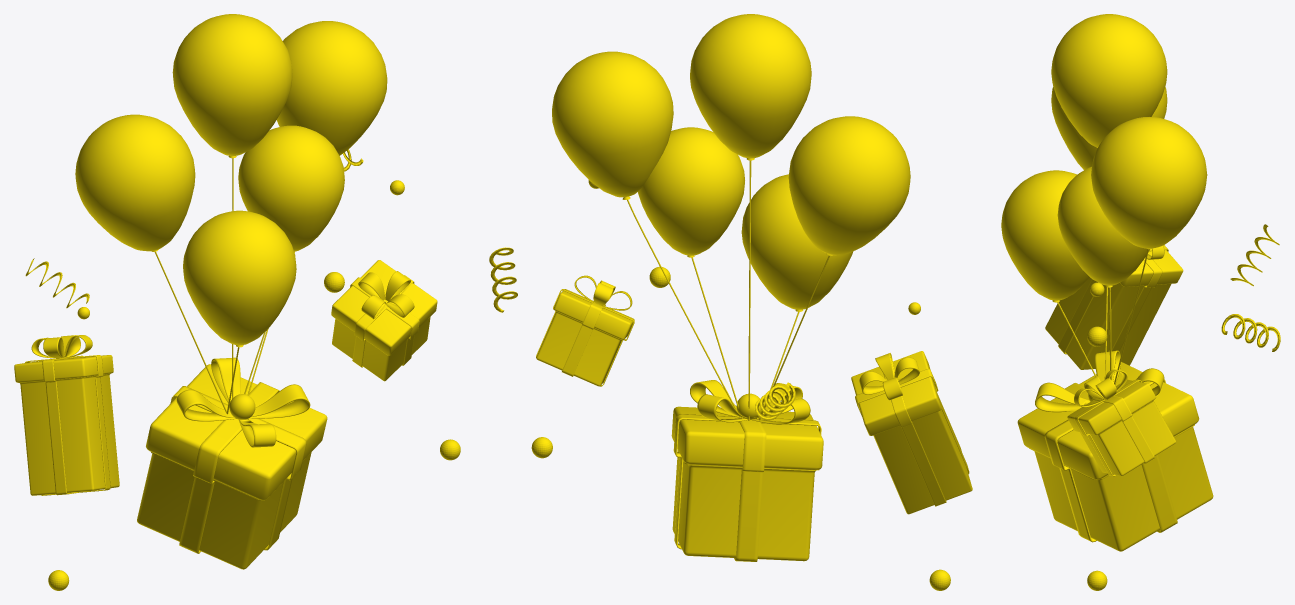
File: present2.glb
3 views of the same model, side by side, from view 1: azimuth 30°, elevation 25°; view 2: azimuth 150°, elevation 25°; view 3: azimuth 270°, elevation 25° (orthographic). The views are drawn at different scales.
Parts seen in each view (by area): view 1: present1, present2.001, balloon1, balloon2, balloon5, balloon3, balloon4, present2; view 2: present1, balloon3, balloon1, balloon2, present2.001, balloon4, balloon5, present2, Rectangle.003, Rectangle.002; view 3: present1, balloon3, balloon1, present2.001, present2, balloon5, balloon4, balloon2, Rectangle.002, Rectangle.003.
Part boxes in pixels (<box>): present1: <box>137,357,327,569</box>; present2.001: <box>14,335,119,495</box>; balloon1: <box>172,14,292,158</box>; balloon2: <box>75,114,195,251</box>; balloon5: <box>183,210,296,347</box>; balloon3: <box>277,21,387,155</box>; balloon4: <box>238,125,344,252</box>; present2: <box>331,260,437,381</box>; present1: <box>671,380,823,561</box>; balloon3: <box>552,51,673,199</box>; balloon1: <box>690,14,811,160</box>; balloon2: <box>788,116,910,255</box>; present2.001: <box>851,351,972,514</box>; balloon4: <box>638,127,744,257</box>; balloon5: <box>741,174,853,311</box>; present2: <box>536,275,634,386</box>; Rectangle.003: <box>754,382,795,420</box>; Rectangle.002: <box>489,247,517,312</box>; present1: <box>1017,350,1213,551</box>; balloon3: <box>1091,117,1207,249</box>; balloon1: <box>1051,14,1167,147</box>; present2.001: <box>1045,245,1183,369</box>; present2: <box>1067,369,1175,476</box>; balloon5: <box>1001,170,1089,302</box>; balloon4: <box>1057,166,1149,287</box>; balloon2: <box>1051,87,1167,169</box>; Rectangle.002: <box>1221,314,1280,351</box>; Rectangle.003: <box>1230,224,1279,286</box>.
Size of the model in its own units: 1.6 by 1.87 by 0.9286.
